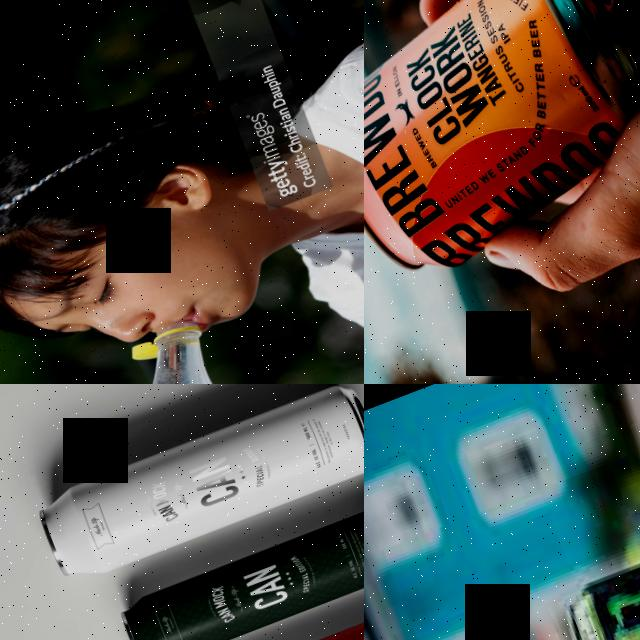bottle: (55, 316, 286, 384)
can: (364, 0, 640, 294), (28, 384, 364, 588), (113, 498, 364, 640), (170, 588, 364, 640)
